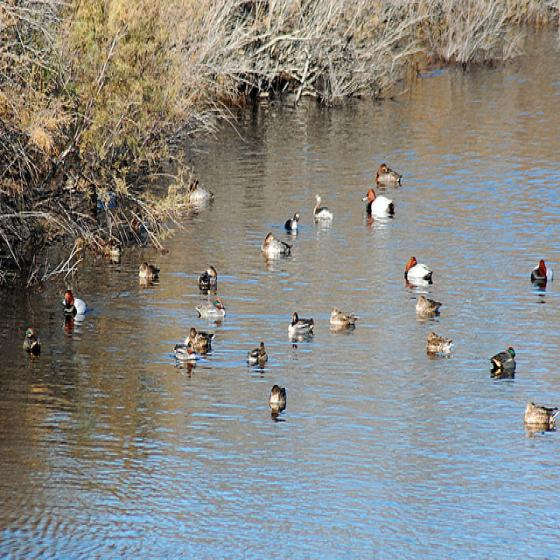bird: (23, 162, 548, 413), (523, 400, 557, 433), (361, 188, 396, 220), (260, 231, 294, 262), (490, 343, 518, 375), (405, 295, 442, 318), (330, 308, 360, 334), (405, 256, 433, 283), (288, 313, 314, 340), (426, 332, 454, 356), (189, 178, 215, 203), (61, 290, 88, 314), (139, 261, 161, 289), (198, 266, 217, 293)
